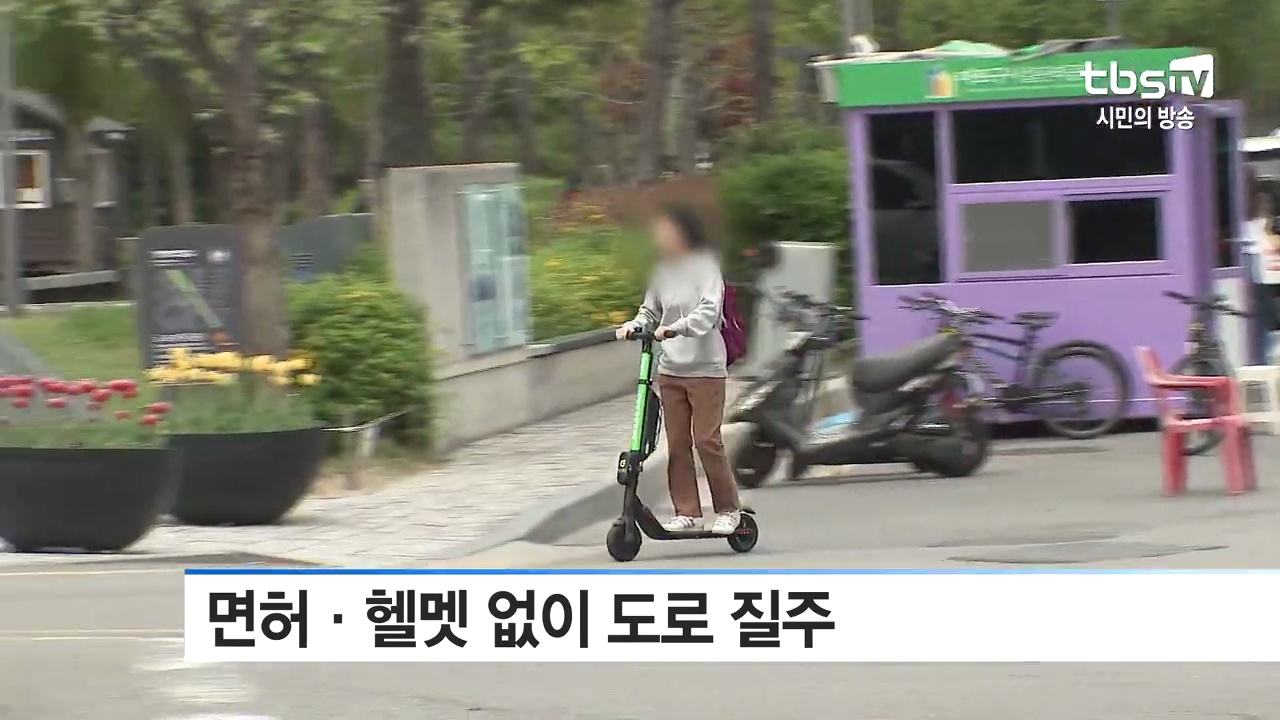nonhelmet: (603, 197, 769, 563)
